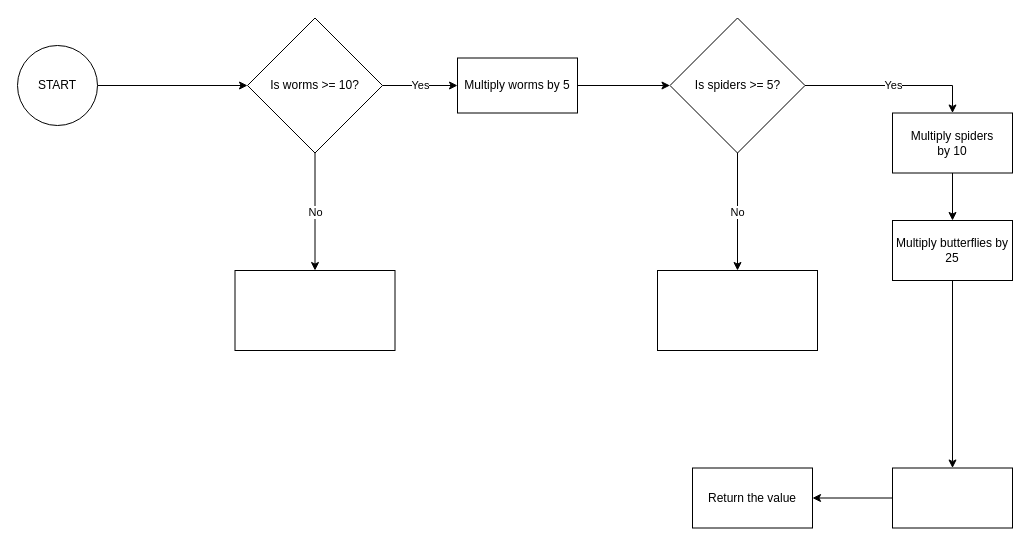
Image size: 1030x545. Some labels were removed from this diagram. The shapes that lost their labels are listed below. From the top down, each one's centre as x and y in pixels, then its label:
point (314, 310): Return worms * 5
point (737, 310): Return (worms * 5) + (spiders * 10)
point (952, 497): Add all the points together
